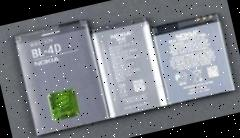electronic: (6, 14, 110, 138), (147, 0, 240, 112), (84, 10, 171, 129)
